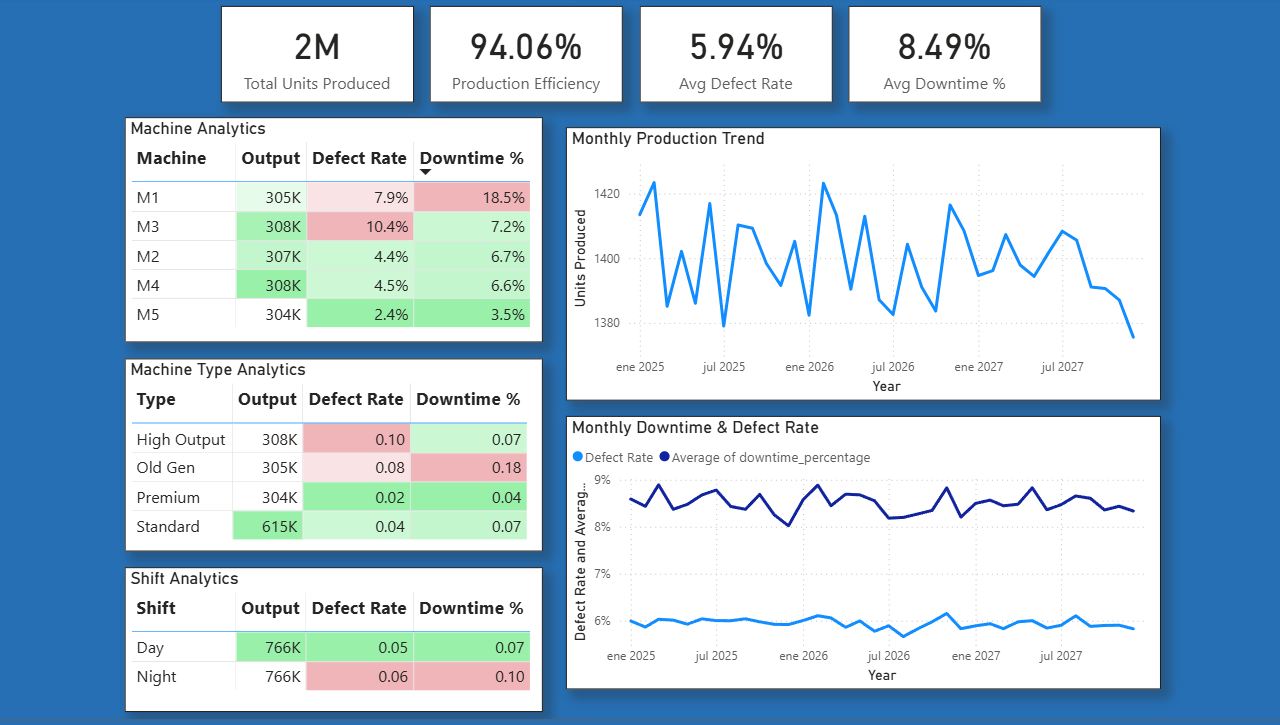

What the dashboard file says about the page in this screenshot:
{"tool":"powerbi","page":{"name":"Page 2","canvas":[1280,720],"ordinal":1},"visuals":[{"type":"card","fields":{"Values":["Sum(public kpi_production_global.total_units_produced)"]},"box":[224.2,9.7,192,96],"z":0},{"type":"card","fields":{"Values":["Sum(public kpi_production_global.efficiency)"]},"box":[432.2,9.7,192,96],"z":1000},{"type":"card","fields":{"Values":["Sum(public kpi_production_global.defect_rate)"]},"box":[640.2,9.7,192,96],"z":2000},{"type":"card","fields":{"Values":["Sum(public kpi_production_global.downtime_percentage)"]},"box":[848.2,9.7,192,96],"z":3000},{"type":"tableEx","title":"Machine Analytics","fields":{"Values":["public agg_production_by_machine.machine_id","Sum(public agg_production_by_machine.total_units_produced)","Sum(public agg_production_by_machine.defect_rate)","Sum(public agg_production_by_machine.downtime_percentage)"]},"box":[128.4,121,416,224],"z":4000},{"type":"lineChart","title":"Monthly Production Trend","fields":{"Y":["Sum(public agg_production_by_date.total_units_produced)"],"Category":["public agg_production_by_date.date.Variation.Date Hierarchy.Year","public agg_production_by_date.date.Variation.Date Hierarchy.Quarter","public agg_production_by_date.date.Variation.Date Hierarchy.Month"]},"box":[567.3,130.5,592,272],"z":5000},{"type":"lineChart","title":"Monthly Downtime & Defect Rate","fields":{"Y":["Avg(public agg_production_by_date.defect_rate)","Avg(public agg_production_by_date.downtime_percentage)"],"Category":["public agg_production_by_date.date.Variation.Date Hierarchy.Year","public agg_production_by_date.date.Variation.Date Hierarchy.Quarter","public agg_production_by_date.date.Variation.Date Hierarchy.Month"]},"box":[567.3,418.5,592,272],"z":6000},{"type":"tableEx","title":"Shift Analytics","fields":{"Values":["public agg_production_by_shift.shift","Sum(public agg_production_by_shift.total_units_produced)","Sum(public agg_production_by_shift.defect_rate)","Sum(public agg_production_by_shift.downtime_percentage)"]},"box":[128.4,569,416,144],"z":7000},{"type":"tableEx","title":"Machine Type Analytics","fields":{"Values":["public agg_machine_by_type.machine_type","Sum(public agg_machine_by_type.total_units_produced)","Sum(public agg_machine_by_type.defect_rate)","Sum(public agg_machine_by_type.downtime_percentage)"]},"box":[128.4,361,416,192],"z":8000}]}

Visuals, with their boxes in screenshot pixels (x1, y1, x2, y2), scaled from the page's 1280x720 canvas onto the 1280x725 screenshot:
card - Sum(public kpi_production_global.total_units_produced): (x1=224, y1=10, x2=416, y2=106)
card - Sum(public kpi_production_global.efficiency): (x1=432, y1=10, x2=624, y2=106)
card - Sum(public kpi_production_global.defect_rate): (x1=640, y1=10, x2=832, y2=106)
card - Sum(public kpi_production_global.downtime_percentage): (x1=848, y1=10, x2=1040, y2=106)
"Machine Analytics" tableEx: (x1=128, y1=122, x2=544, y2=347)
"Monthly Production Trend" lineChart: (x1=567, y1=131, x2=1159, y2=405)
"Monthly Downtime & Defect Rate" lineChart: (x1=567, y1=421, x2=1159, y2=695)
"Shift Analytics" tableEx: (x1=128, y1=573, x2=544, y2=718)
"Machine Type Analytics" tableEx: (x1=128, y1=364, x2=544, y2=557)
